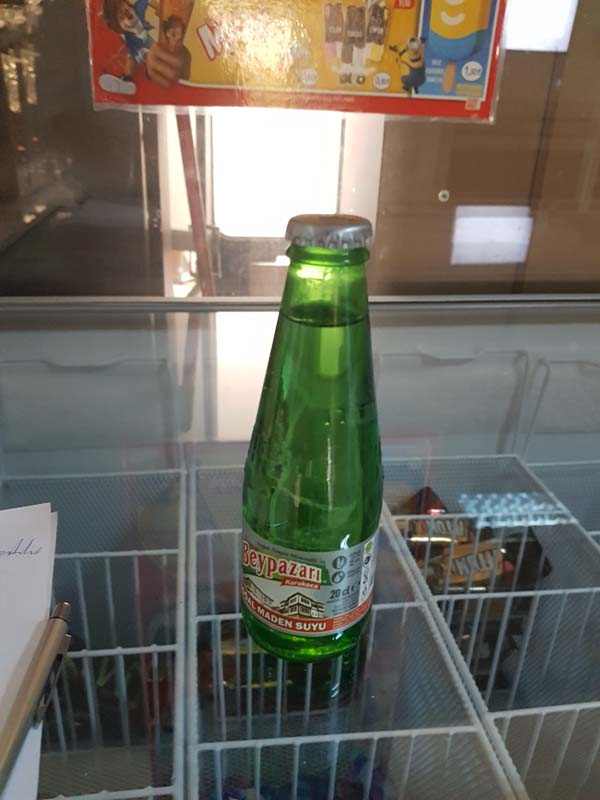beypazarimadensuyu: (237, 213, 389, 664)
